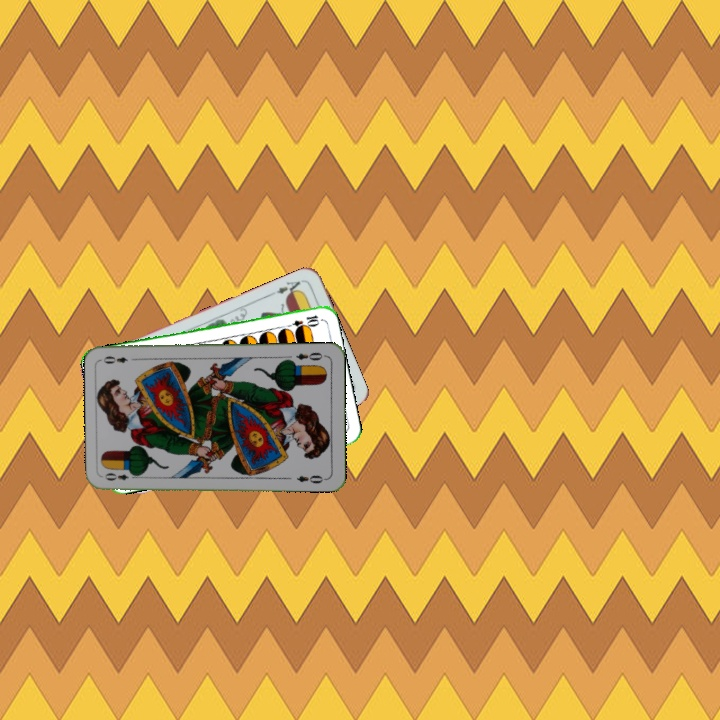E10: (281, 311, 322, 332)
EA: (268, 276, 306, 299)
EO: (101, 468, 140, 483), (292, 348, 328, 363)
